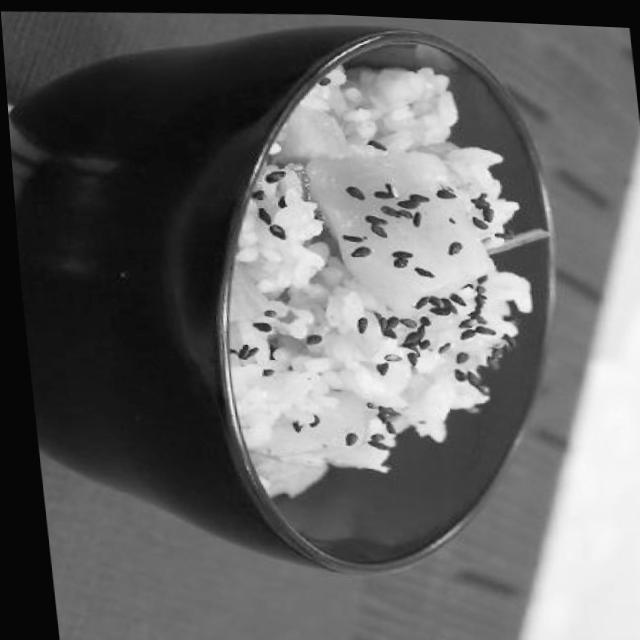米饭主食: (196, 71, 551, 519)
